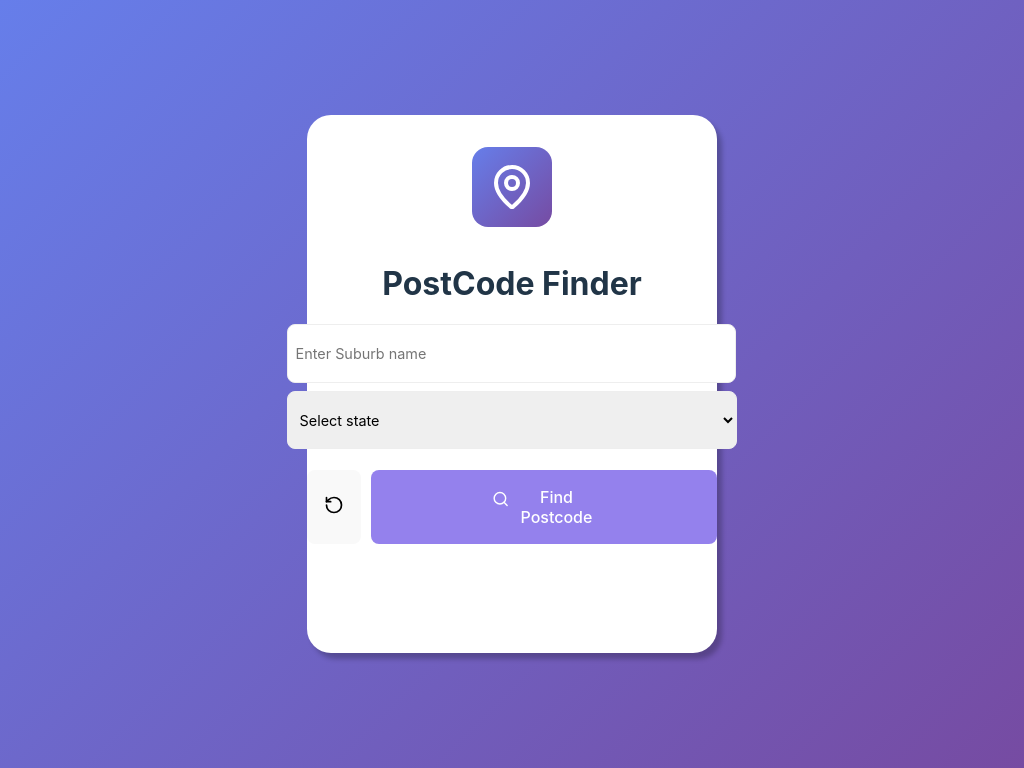
Test: Postcode page Tests › Should give a validation error when inputs are empty
Click the button with test id "submit-btn" at (544, 507), box x1=371 y1=470 x2=717 y2=544
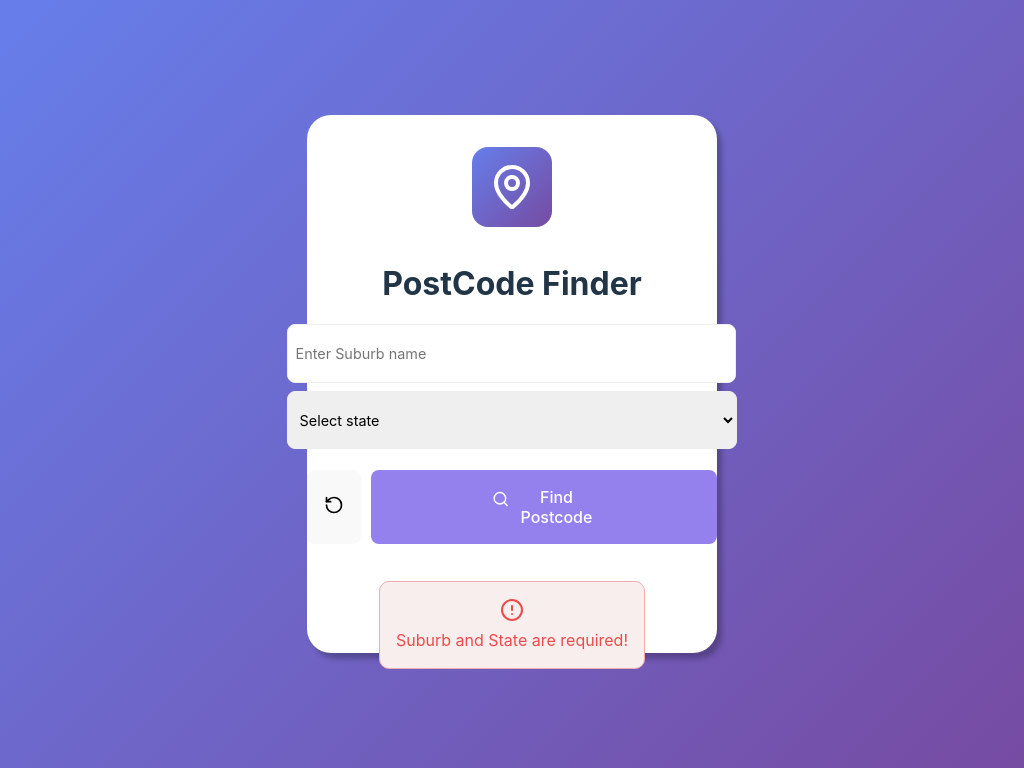
Expected: the element with test id "validation-error-msg" is shown, x1=379 y1=580 x2=645 y2=668
